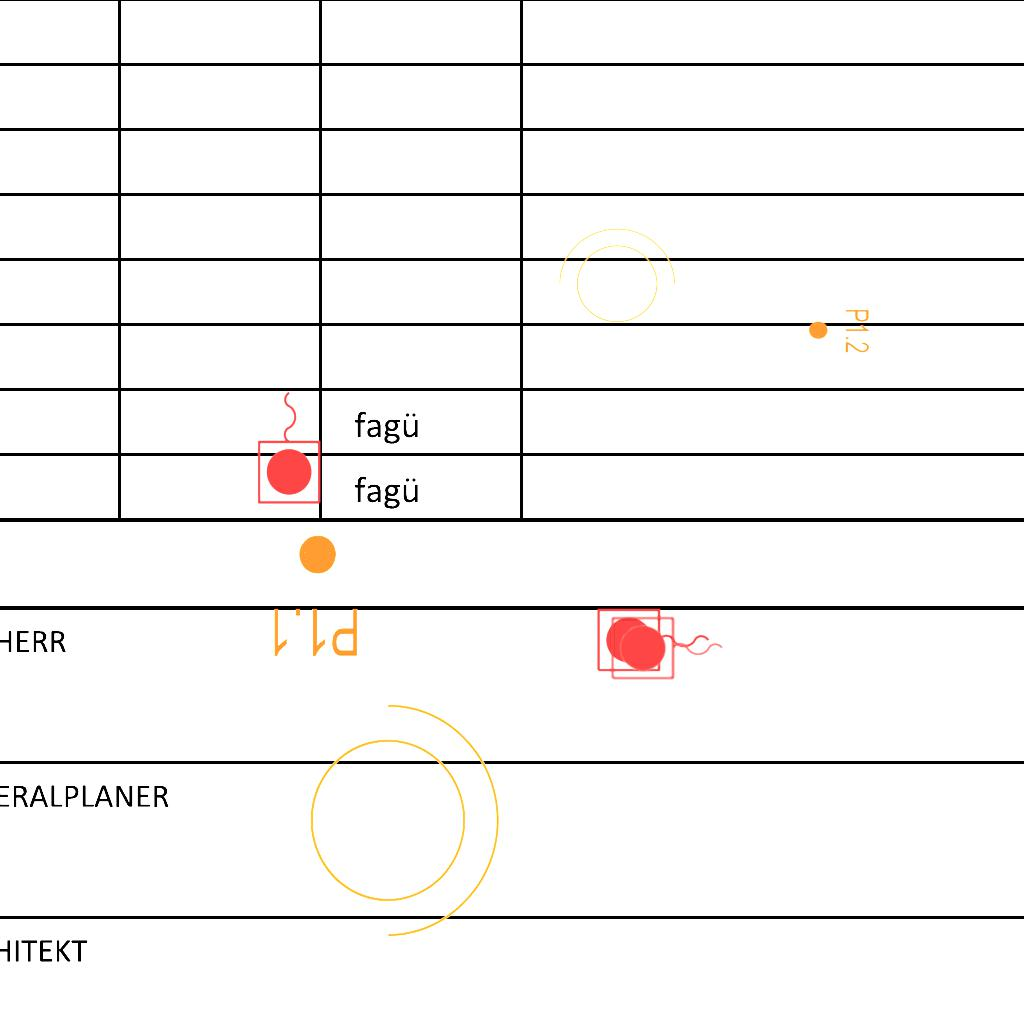Downlight_LED_Einbauleuchten_Flur: (268, 532, 361, 660), (807, 308, 871, 354)
Scheinwerfer_fuer_Alarmbeleuchtung: (285, 682, 510, 946), (548, 223, 680, 335)
Zugtaster: (593, 605, 715, 677), (254, 386, 326, 508), (607, 613, 729, 685)
